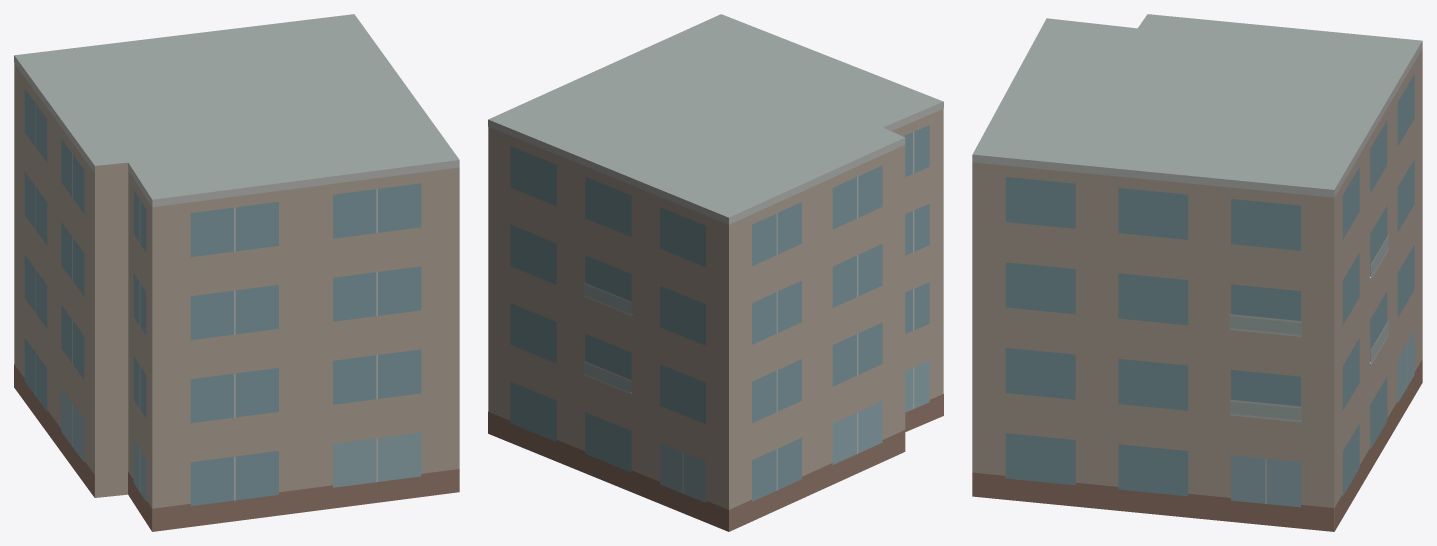
Rendered from survey-upis-32844979.glb.
The picture shows the model from 3 angles, left to right: view 1: azimuth 30°, elevation 25°; view 2: azimuth 150°, elevation 25°; view 3: azimuth 270°, elevation 25°; orthographic projection. The views are drawn at different scales.
Visible parts, largest first — view 1: survey-upis-32844979.tmp; view 2: survey-upis-32844979.tmp; view 3: survey-upis-32844979.tmp.
Boxes of the visible parts, x1,y1,x2,y2 form: survey-upis-32844979.tmp: (14, 14, 459, 531); survey-upis-32844979.tmp: (488, 14, 943, 531); survey-upis-32844979.tmp: (972, 14, 1422, 531).
Size of the model in its own units: 11.93 by 10.8 by 12.9.
